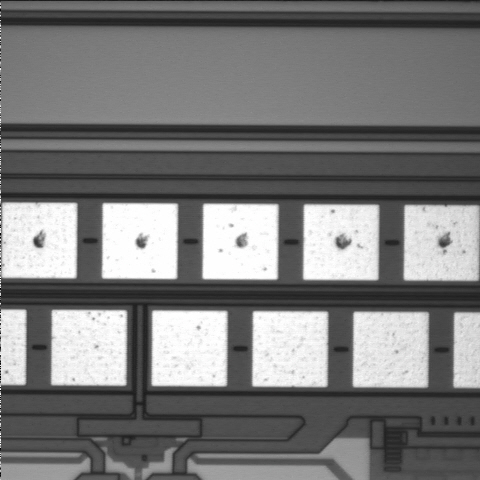pad: (102, 203, 178, 279), (202, 204, 278, 280), (303, 204, 379, 280), (51, 310, 127, 386), (252, 311, 328, 387), (152, 310, 227, 386), (2, 203, 77, 278), (353, 312, 428, 387)
